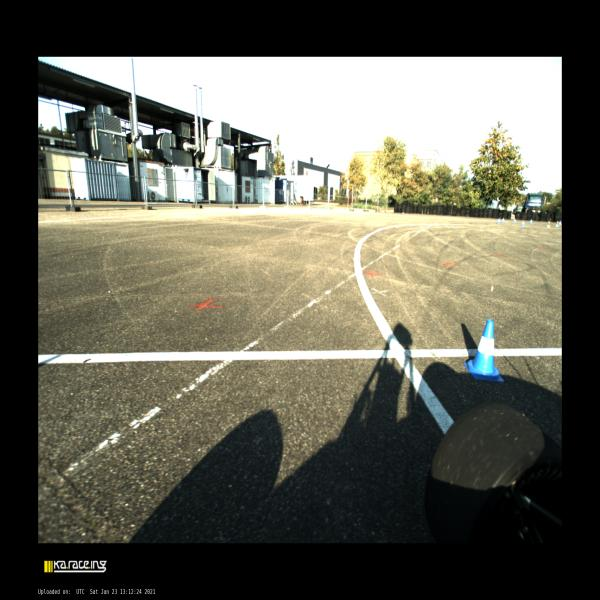blue_cone: (463, 320, 504, 381), (521, 221, 525, 227), (497, 218, 500, 224), (513, 218, 516, 223), (502, 217, 504, 223), (559, 220, 561, 226), (530, 219, 532, 224)
yellow_cone: (546, 221, 550, 227), (555, 221, 559, 227)
